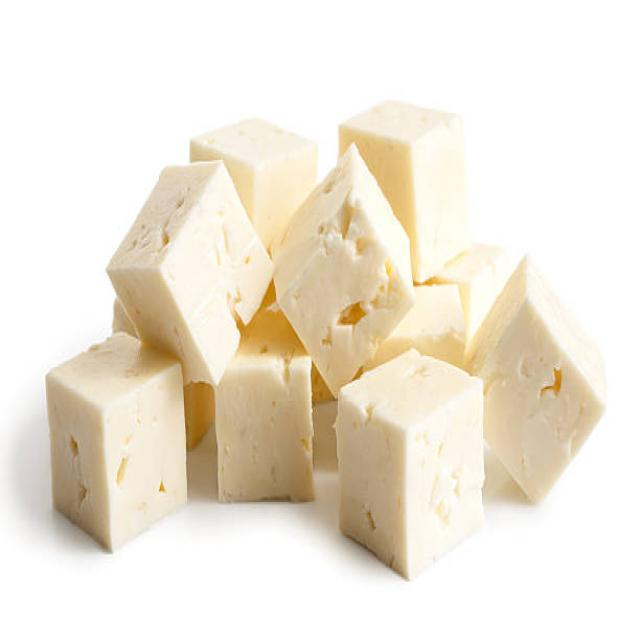tofu: (334, 358, 485, 585), (276, 146, 410, 387), (117, 157, 274, 357), (45, 342, 191, 553), (482, 254, 602, 506)
